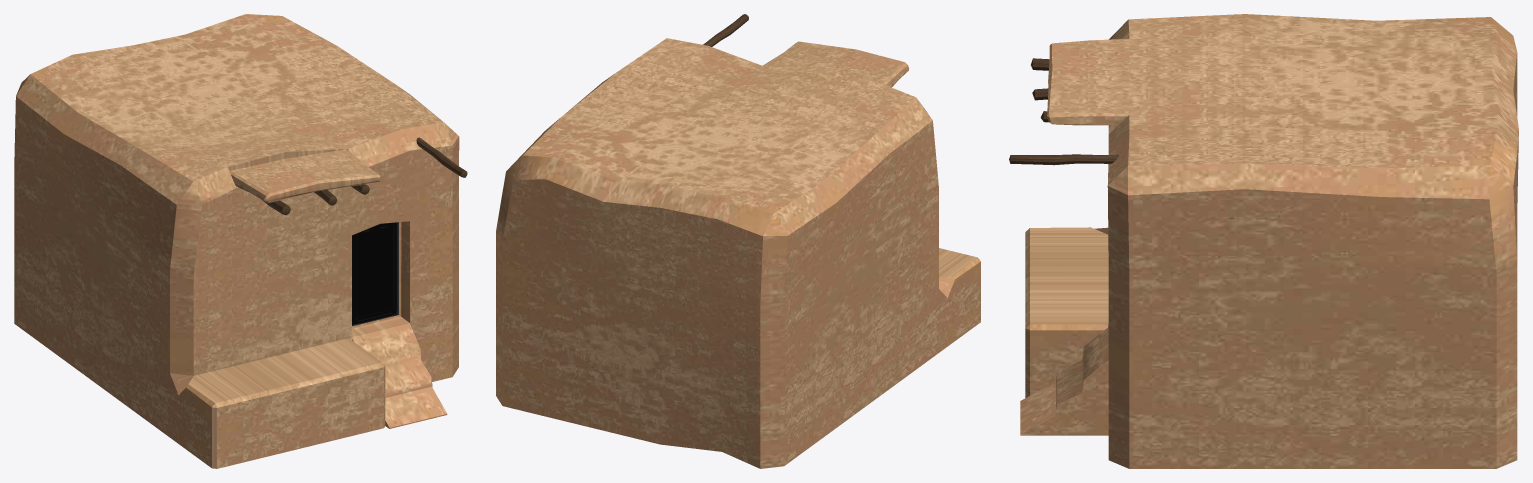
The model's file is Khoone2MileDar.fbx.
The picture shows the model from 3 angles, left to right: view 1: azimuth 30°, elevation 25°; view 2: azimuth 150°, elevation 25°; view 3: azimuth 270°, elevation 25°; orthographic projection. The views are drawn at different scales.
Visible parts, largest first — view 1: pCube2, pCylinder1; view 2: pCube2; view 3: pCube2, pCylinder1.
Part boxes in pixels (bbox=[...]): pCube2: bbox=[14, 14, 459, 468]; pCylinder1: bbox=[416, 137, 467, 177]; pCube2: bbox=[496, 38, 980, 468]; pCube2: bbox=[1020, 14, 1518, 468]; pCylinder1: bbox=[1009, 154, 1119, 165].
Bounding box in the file's own units: 12.32 × 10.43 × 15.85.
